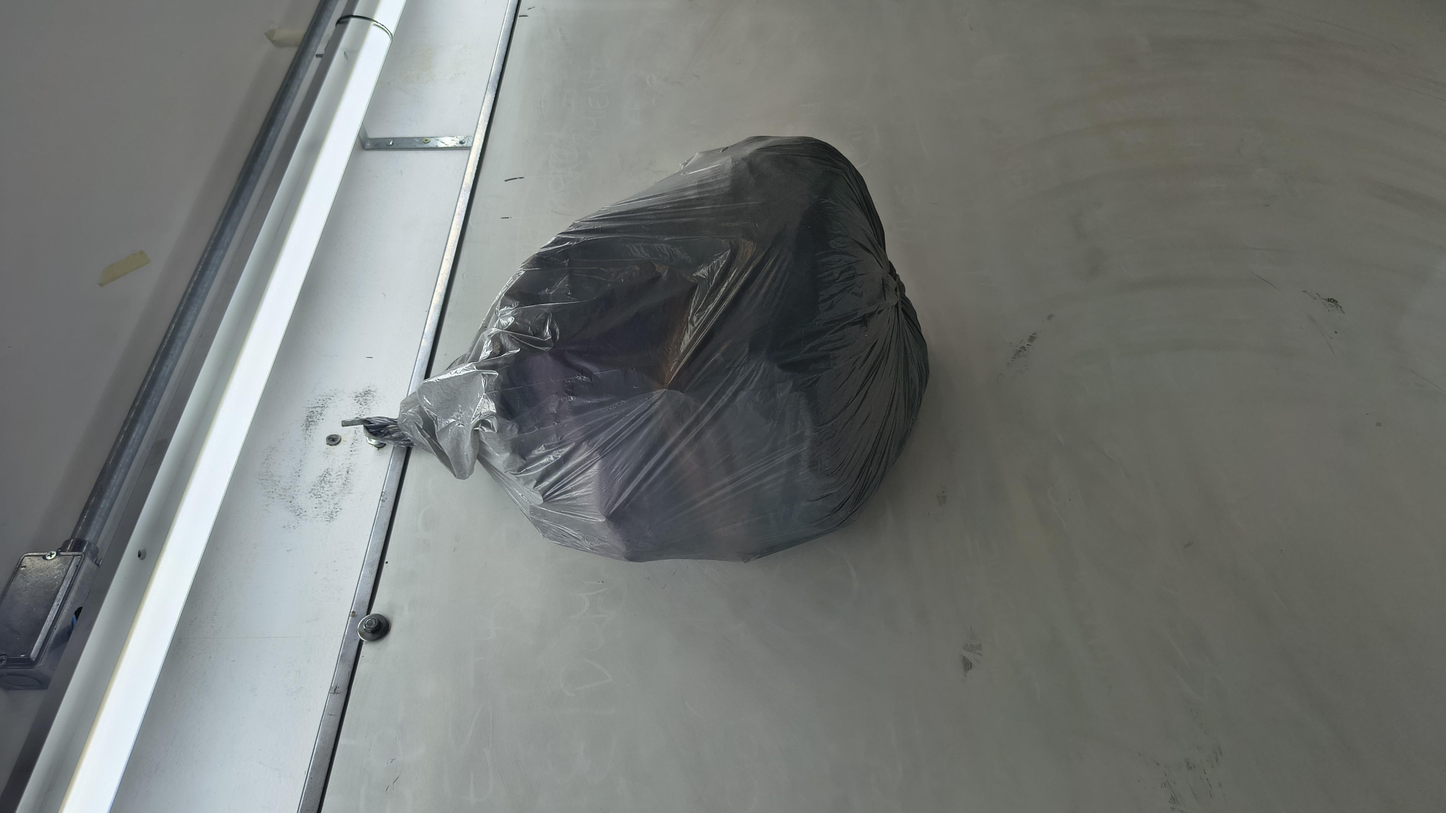Garbage: (364, 214, 1312, 522)
